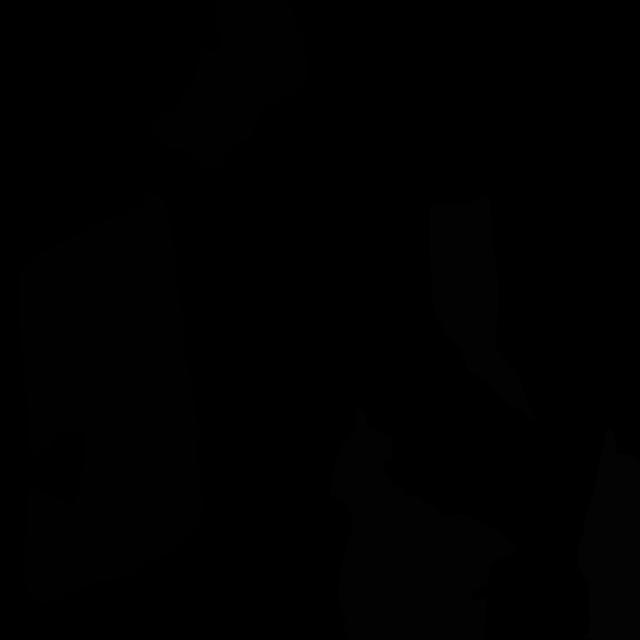cardboard: (329, 407, 518, 640), (429, 196, 536, 421)
metal: (577, 429, 640, 640)
rigid_plastic: (18, 192, 204, 603), (148, 0, 307, 169)
